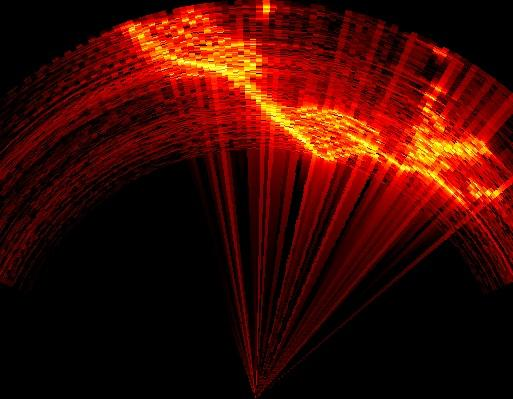shipwreck: (125, 4, 383, 158), (403, 135, 512, 201)
